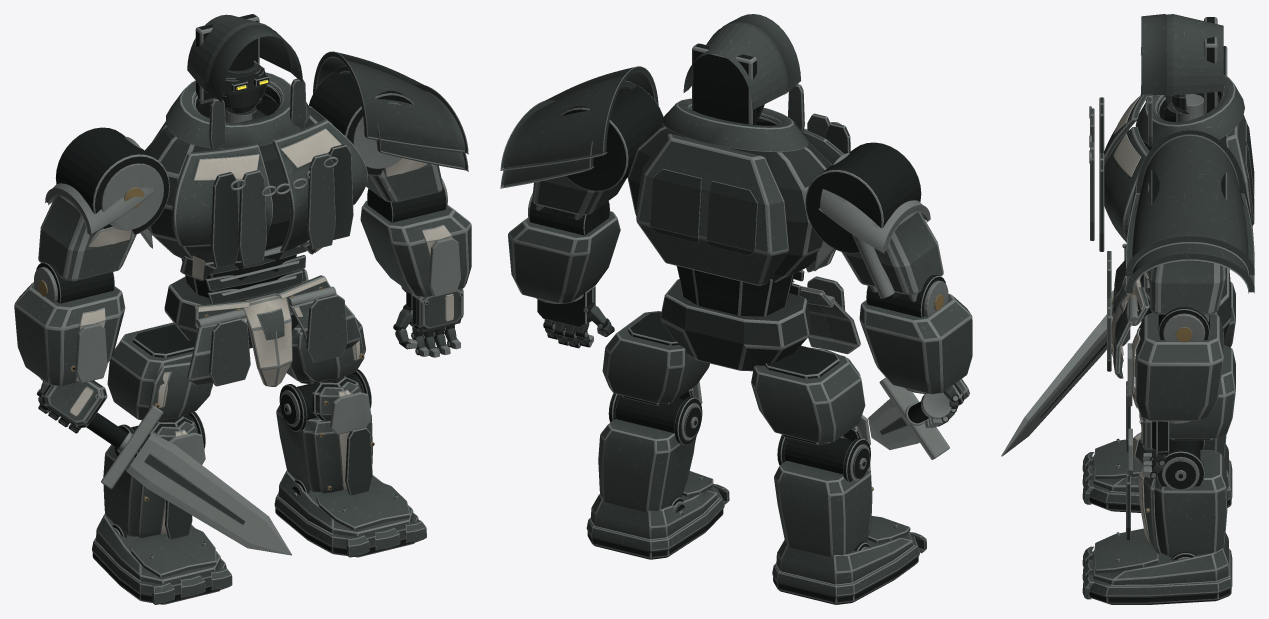
The model's file is tank-t2-revenant.glb.
The picture shows the model from 3 angles, left to right: view 1: azimuth 30°, elevation 25°; view 2: azimuth 150°, elevation 25°; view 3: azimuth 270°, elevation 25°; orthographic projection.
Parts seen in each view (by area): view 1: chest__clay, chest__metal, weaponR__metal, pauldronL__clay, ankleL__clay, shoulderR__metal, ankleR__clay, elbowR__clay, pelvis__metal, head__clay, elbowL__clay, hipR__clay (+21 smaller); view 2: chest__clay, chest__metal, pelvis__metal, pauldronL__clay, elbowR__clay, shoulderR__metal, kneeR__clay, elbowL__clay, kneeL__clay, hipR__clay, ankleR__clay, ankleL__clay (+19 smaller); view 3: pauldronL__clay, chest__clay, elbowL__clay, ankleL__clay, kneeL__clay, head__clay, shoulderL__clay, ankleR__clay, weaponR__metal, kneeL__metal, hipL__clay, elbowL__metal (+13 smaller).
Boxes of the visible parts, x1,y1,x2,y2 form: chest__clay: [153, 72, 367, 281]; chest__metal: [140, 83, 353, 268]; weaponR__metal: [86, 405, 291, 555]; pauldronL__clay: [313, 51, 468, 171]; ankleL__clay: [274, 470, 426, 557]; shoulderR__metal: [55, 127, 169, 279]; ankleR__clay: [92, 514, 232, 604]; elbowR__clay: [14, 282, 125, 386]; pelvis__metal: [164, 241, 336, 348]; head__clay: [187, 14, 306, 149]; elbowL__clay: [360, 201, 471, 297]; hipR__clay: [107, 322, 213, 420]; chest__clay: [636, 98, 843, 285]; chest__metal: [627, 106, 850, 282]; pelvis__metal: [660, 266, 835, 371]; pauldronL__clay: [500, 66, 658, 188]; elbowR__clay: [859, 293, 972, 394]; shoulderR__metal: [805, 142, 921, 301]; kneeR__clay: [774, 426, 872, 557]; elbowL__clay: [508, 211, 620, 303]; kneeL__clay: [598, 388, 696, 512]; hipR__clay: [751, 345, 865, 443]; ankleR__clay: [772, 516, 926, 598]; ankleL__clay: [586, 471, 729, 552]; pauldronL__clay: [1125, 130, 1254, 293]; chest__clay: [1090, 75, 1252, 278]; elbowL__clay: [1131, 312, 1223, 420]; ankleL__clay: [1082, 528, 1232, 599]; kneeL__clay: [1133, 432, 1227, 557]; head__clay: [1140, 14, 1223, 146]; shoulderL__clay: [1149, 260, 1225, 314]; ankleR__clay: [1082, 438, 1232, 506]; weaponR__metal: [1001, 275, 1142, 456]; kneeL__metal: [1126, 428, 1204, 540]; hipL__clay: [1169, 345, 1235, 438]; elbowL__metal: [1127, 307, 1209, 406].
Bounding box in the file's own units: 3.6 × 4.21 × 1.86.
Materials: 11 (10 with a texture image).
